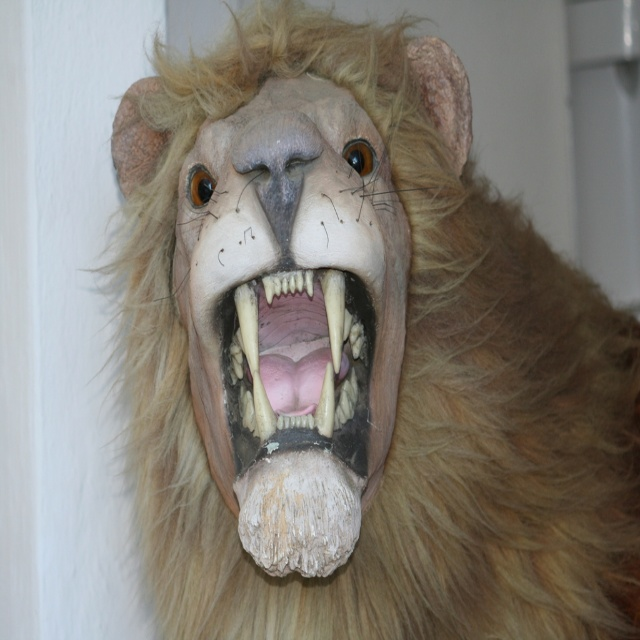Lion: (75, 0, 640, 639)
